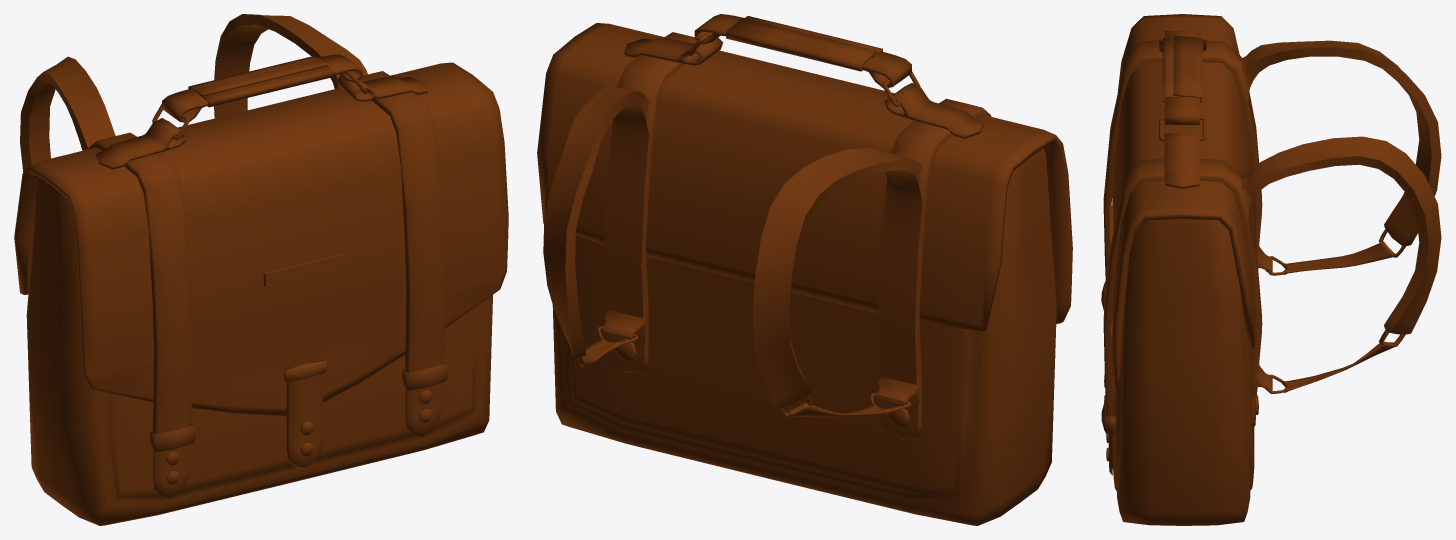
The model's file is bag.fbx.
3 renders of one model, left to right at view 1: azimuth 30°, elevation 25°; view 2: azimuth 150°, elevation 25°; view 3: azimuth 270°, elevation 25°, orthographic. The views are drawn at different scales.
Parts seen in each view (by area): view 1: sac008; view 2: sac008; view 3: sac008.
Boxes of the visible parts, bbox=[...] form: sac008: bbox=[14, 14, 508, 525]; sac008: bbox=[537, 14, 1072, 525]; sac008: bbox=[1101, 14, 1441, 525].
Size of the model in its own units: 41.88 by 36.17 by 29.49.
